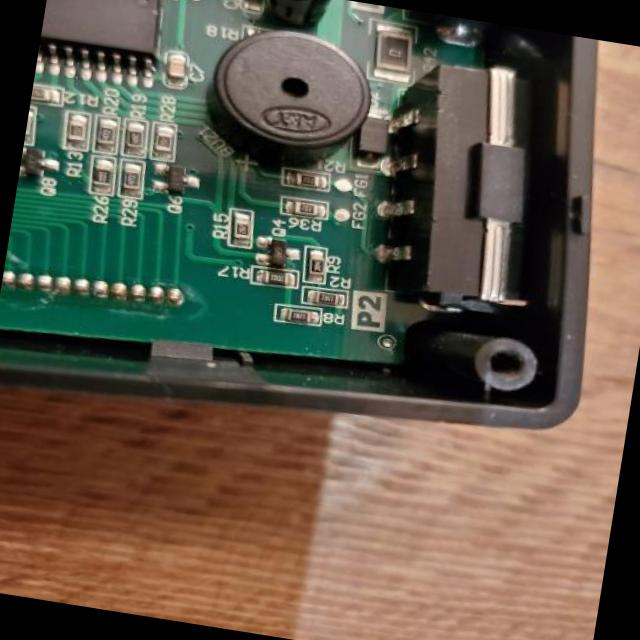IC: (37, 0, 175, 81)
capacitor: (166, 54, 187, 82)
connector: (371, 58, 554, 322)
diode: (352, 108, 400, 162)
resistor: (369, 22, 418, 76), (121, 122, 149, 152), (118, 165, 145, 196), (288, 170, 324, 190), (91, 160, 113, 192), (289, 198, 323, 218), (151, 126, 173, 156), (260, 271, 294, 290), (231, 212, 253, 240), (68, 118, 89, 146), (96, 121, 116, 148), (308, 252, 328, 278), (30, 88, 56, 104), (310, 291, 338, 305), (286, 307, 310, 321)
transistor: (18, 146, 59, 182), (154, 162, 194, 198), (260, 238, 296, 270)
